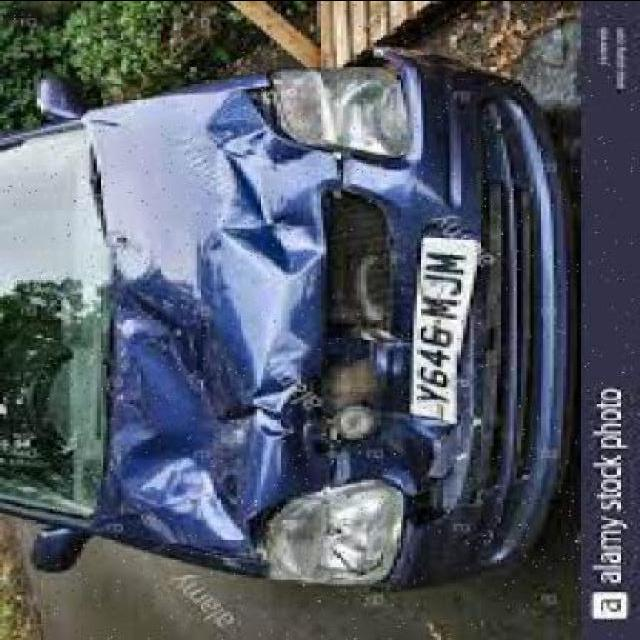bonnet-dent: (106, 66, 336, 594)
front-bumper-dent: (366, 38, 566, 229), (343, 434, 560, 591)
